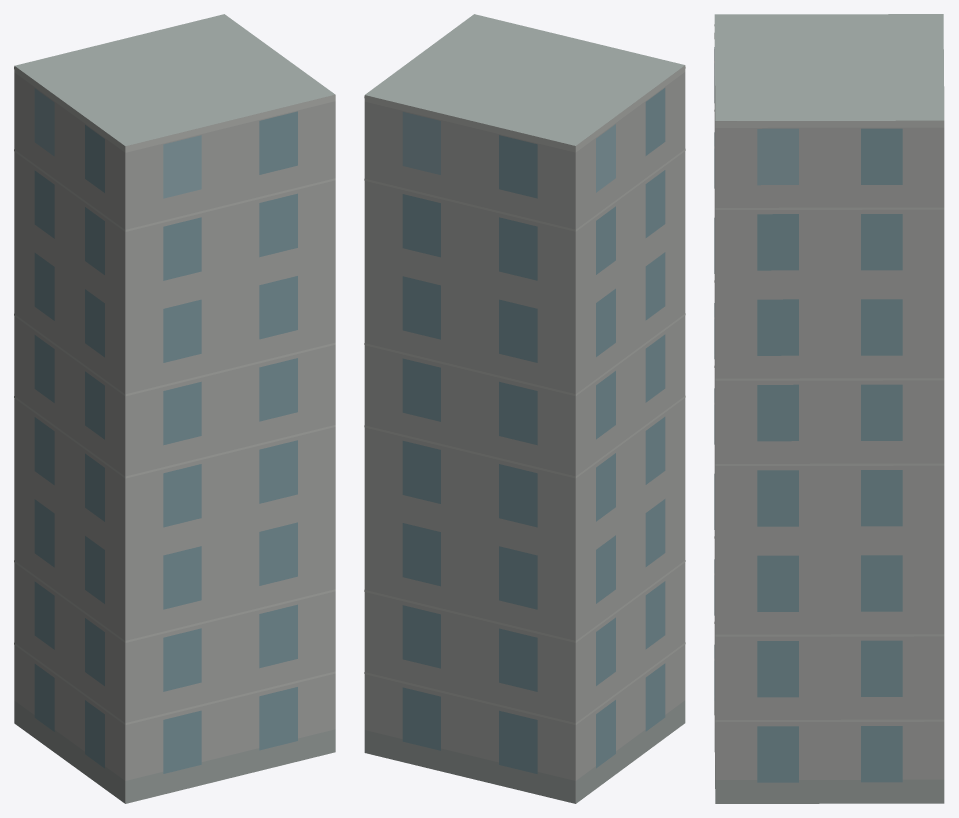
The model's file is survey-upis-33000988.glb.
The picture shows the model from 3 angles, left to right: view 1: azimuth 30°, elevation 25°; view 2: azimuth 150°, elevation 25°; view 3: azimuth 270°, elevation 25°; orthographic projection. The views are drawn at different scales.
Visible parts, largest first — view 1: survey-upis-33000988.tmp; view 2: survey-upis-33000988.tmp; view 3: survey-upis-33000988.tmp.
Part boxes in pixels (<box>): survey-upis-33000988.tmp: <box>14,14,335,803</box>; survey-upis-33000988.tmp: <box>364,14,685,803</box>; survey-upis-33000988.tmp: <box>714,14,944,803</box>.
Size of the model in its own units: 8.23 by 24.4 by 7.48.
